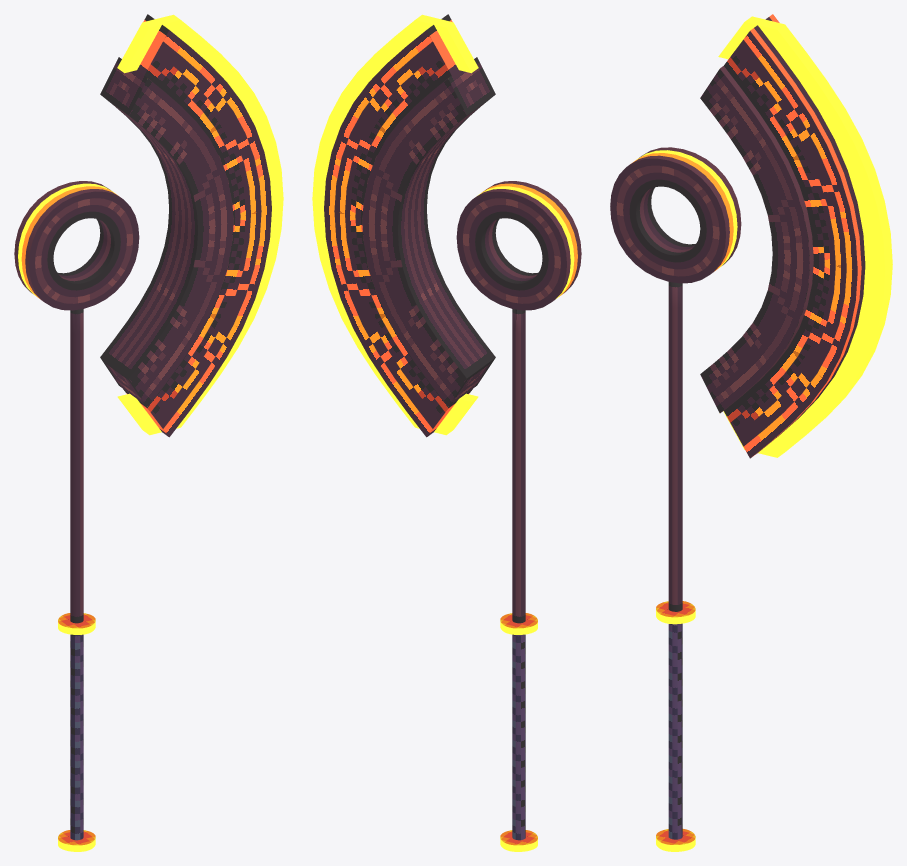
3 views of the same model, side by side, from view 1: azimuth 30°, elevation 25°; view 2: azimuth 150°, elevation 25°; view 3: azimuth 330°, elevation 25° (orthographic). The views are drawn at different scales.
Parts seen in each view (by area): view 1: Molten Axe; view 2: Molten Axe; view 3: Molten Axe.
Part boxes in pixels (x1,y1,x2,y2): Molten Axe: [14, 14, 283, 851]; Molten Axe: [312, 14, 581, 851]; Molten Axe: [610, 14, 892, 851].
Size of the model in its own units: 257 by 763 by 50.
1 material, 1 textured.
